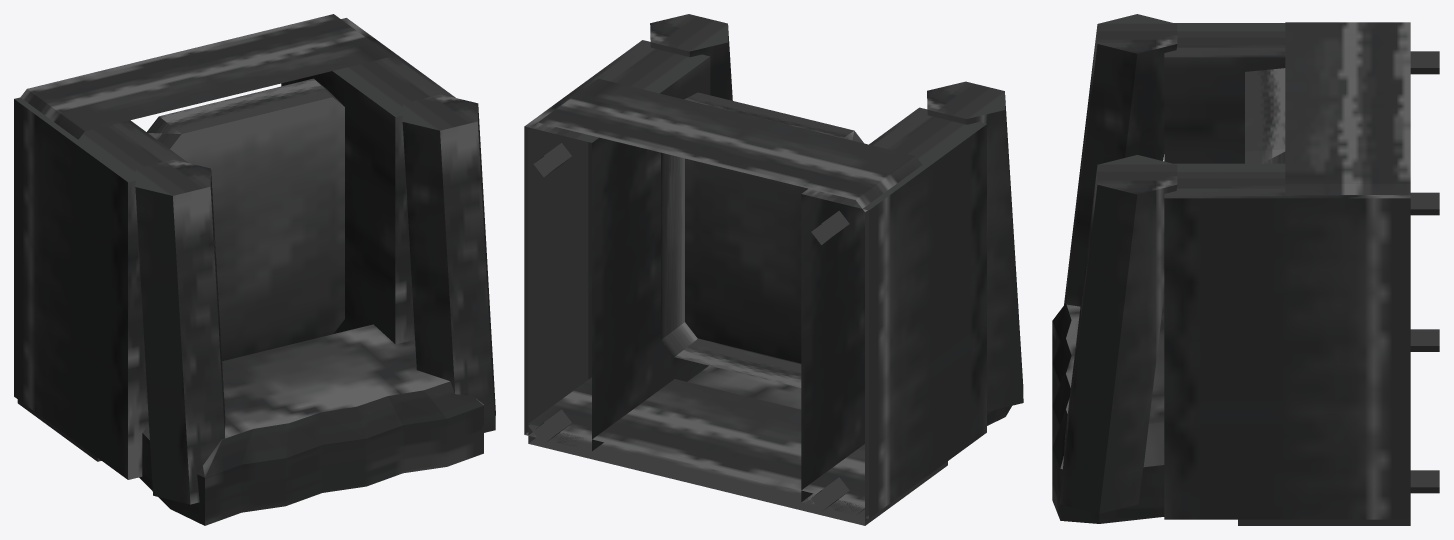
Rendered from pz_chair_seating_indoor_03_victorian_4_fidelity_r1.obj.
3 renders of one model, left to right at view 1: azimuth 30°, elevation 25°; view 2: azimuth 150°, elevation 25°; view 3: azimuth 270°, elevation 25°, orthographic. The views are drawn at different scales.
Parts seen in each view (by area): view 1: pz_chair_seating_indoor_03_victorian_4__chester_side_-1__arm, pz_chair_seating_indoor_03_victorian_4__sculpted_back__back, pz_chair_seating_indoor_03_victorian_4__seat_0__seat, pz_chair_seating_indoor_03_victorian_4__chester_roll_-1__arm, pz_chair_seating_indoor_03_victorian_4__chester_roll_1__arm, pz_chair_seating_indoor_03_victorian_4__chester_side_1__arm, pz_chair_seating_indoor_03_victorian_4__lower_body__body; view 2: pz_chair_seating_indoor_03_victorian_4__chester_side_-1__arm, pz_chair_seating_indoor_03_victorian_4__lower_body__body, pz_chair_seating_indoor_03_victorian_4__seat_0__seat, pz_chair_seating_indoor_03_victorian_4__chester_side_1__arm, pz_chair_seating_indoor_03_victorian_4__rear_body_bridge__body, pz_chair_seating_indoor_03_victorian_4__chester_roll_-1__arm, pz_chair_seating_indoor_03_victorian_4__chester_roll_1__arm, pz_chair_seating_indoor_03_victorian_4__sculpted_back__back, pz_chair_seating_indoor_03_victorian_4__foot_-1_-1__frame, pz_chair_seating_indoor_03_victorian_4__foot_-1_1__frame, pz_chair_seating_indoor_03_victorian_4__foot_1_1__frame, pz_chair_seating_indoor_03_victorian_4__foot_1_-1__frame; view 3: pz_chair_seating_indoor_03_victorian_4__chester_side_1__arm, pz_chair_seating_indoor_03_victorian_4__chester_roll_1__arm, pz_chair_seating_indoor_03_victorian_4__lower_body__body, pz_chair_seating_indoor_03_victorian_4__chester_roll_-1__arm, pz_chair_seating_indoor_03_victorian_4__chester_side_-1__arm, pz_chair_seating_indoor_03_victorian_4__sculpted_back__back, pz_chair_seating_indoor_03_victorian_4__seat_0__seat, pz_chair_seating_indoor_03_victorian_4__rear_body_bridge__body, pz_chair_seating_indoor_03_victorian_4__foot_-1_1__frame, pz_chair_seating_indoor_03_victorian_4__foot_1_-1__frame, pz_chair_seating_indoor_03_victorian_4__foot_1_1__frame, pz_chair_seating_indoor_03_victorian_4__foot_-1_-1__frame.
Boxes of the visible parts, x1,y1,x2,y2 form: pz_chair_seating_indoor_03_victorian_4__chester_side_-1__arm: (14,97,188,479); pz_chair_seating_indoor_03_victorian_4__sculpted_back__back: (139,324,483,525); pz_chair_seating_indoor_03_victorian_4__seat_0__seat: (147,78,344,361); pz_chair_seating_indoor_03_victorian_4__chester_roll_-1__arm: (135,159,225,504); pz_chair_seating_indoor_03_victorian_4__chester_roll_1__arm: (402,94,495,433); pz_chair_seating_indoor_03_victorian_4__chester_side_1__arm: (281,18,455,344); pz_chair_seating_indoor_03_victorian_4__lower_body__body: (20,14,395,139); pz_chair_seating_indoor_03_victorian_4__chester_side_-1__arm: (801,107,986,518); pz_chair_seating_indoor_03_victorian_4__lower_body__body: (528,78,922,515); pz_chair_seating_indoor_03_victorian_4__seat_0__seat: (661,92,863,387); pz_chair_seating_indoor_03_victorian_4__chester_side_1__arm: (524,40,710,451); pz_chair_seating_indoor_03_victorian_4__rear_body_bridge__body: (528,377,947,525); pz_chair_seating_indoor_03_victorian_4__chester_roll_-1__arm: (927,81,1023,411); pz_chair_seating_indoor_03_victorian_4__chester_roll_1__arm: (650,14,732,100); pz_chair_seating_indoor_03_victorian_4__sculpted_back__back: (664,338,1011,425); pz_chair_seating_indoor_03_victorian_4__foot_-1_-1__frame: (811,477,849,511); pz_chair_seating_indoor_03_victorian_4__foot_-1_1__frame: (811,210,849,245); pz_chair_seating_indoor_03_victorian_4__foot_1_1__frame: (533,143,571,177); pz_chair_seating_indoor_03_victorian_4__foot_1_-1__frame: (533,409,571,443); pz_chair_seating_indoor_03_victorian_4__chester_side_1__arm: (1164,163,1410,519); pz_chair_seating_indoor_03_victorian_4__chester_roll_1__arm: (1059,155,1177,513); pz_chair_seating_indoor_03_victorian_4__lower_body__body: (1285,22,1410,194); pz_chair_seating_indoor_03_victorian_4__chester_roll_-1__arm: (1064,14,1177,306); pz_chair_seating_indoor_03_victorian_4__chester_side_-1__arm: (1164,23,1285,163); pz_chair_seating_indoor_03_victorian_4__sculpted_back__back: (1052,295,1164,523); pz_chair_seating_indoor_03_victorian_4__seat_0__seat: (1245,68,1285,163); pz_chair_seating_indoor_03_victorian_4__rear_body_bridge__body: (1238,519,1410,525); pz_chair_seating_indoor_03_victorian_4__foot_-1_1__frame: (1410,51,1439,74); pz_chair_seating_indoor_03_victorian_4__foot_1_-1__frame: (1410,470,1439,493); pz_chair_seating_indoor_03_victorian_4__foot_1_1__frame: (1410,192,1439,215); pz_chair_seating_indoor_03_victorian_4__foot_-1_-1__frame: (1410,329,1439,351).
Bounding box in the file's own units: 0.976 × 0.8668 × 0.8845.
1 material, 1 textured.
